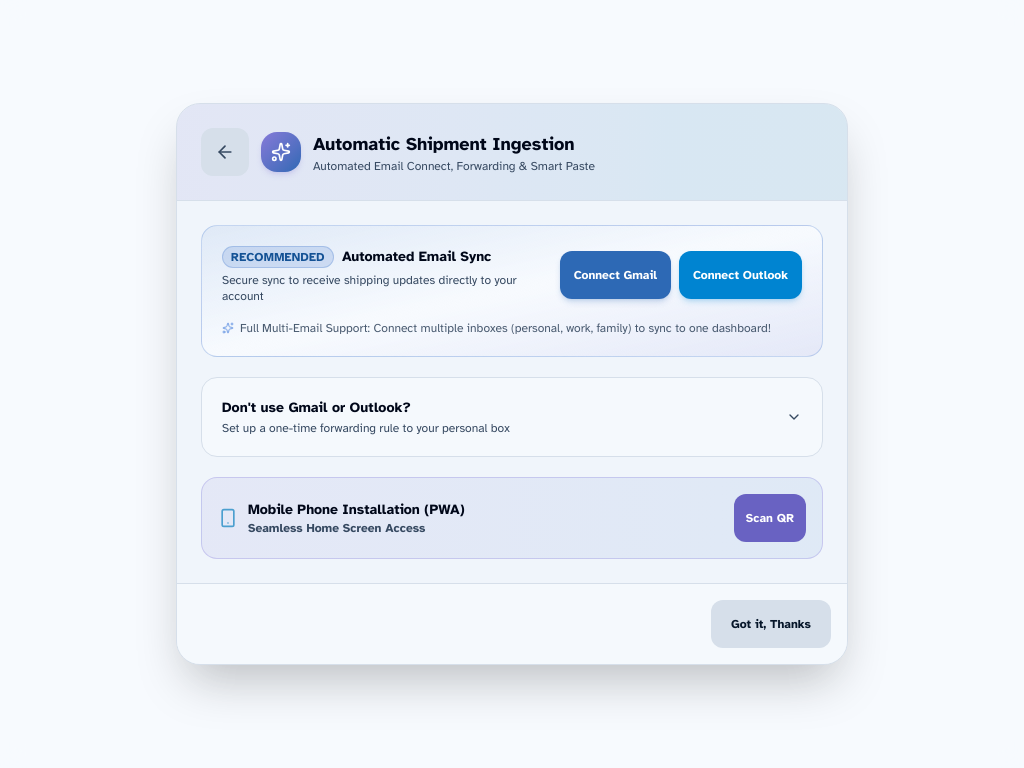
Test case: IngestionGuideModal Component Tests › renders correctly when open with 1-Click Gmail/Outlook and personal address
The width and height of the screenshot is (1024, 768).
expect the heading "Automatic Shipment Ingestion" is shown: met, box [313,130,595,158]
expect the text "Connect Gmail" is shown: met, box [574,267,657,283]
Step 1. Click the heading "Don't use Gmail or Outlook?" → (316, 408), box [222,399,411,416]
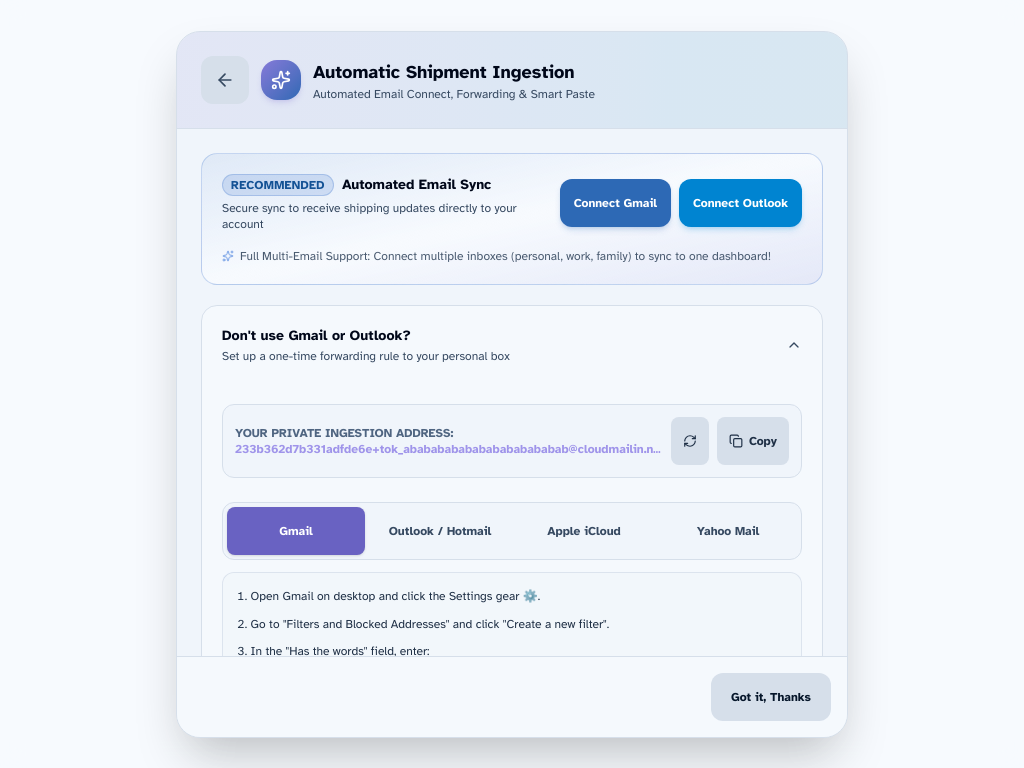
expect the text "233b362d7b331adfde6e+tok_abababababababababababab@cloudmailin.net" is shown: met, box [235,441,663,456]
